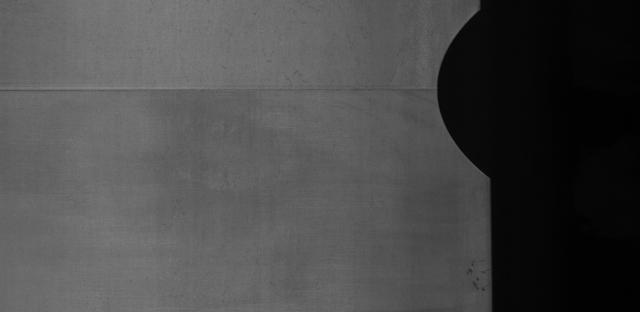crescent_gap: (425, 1, 500, 195)
welding_line: (4, 79, 460, 104)
